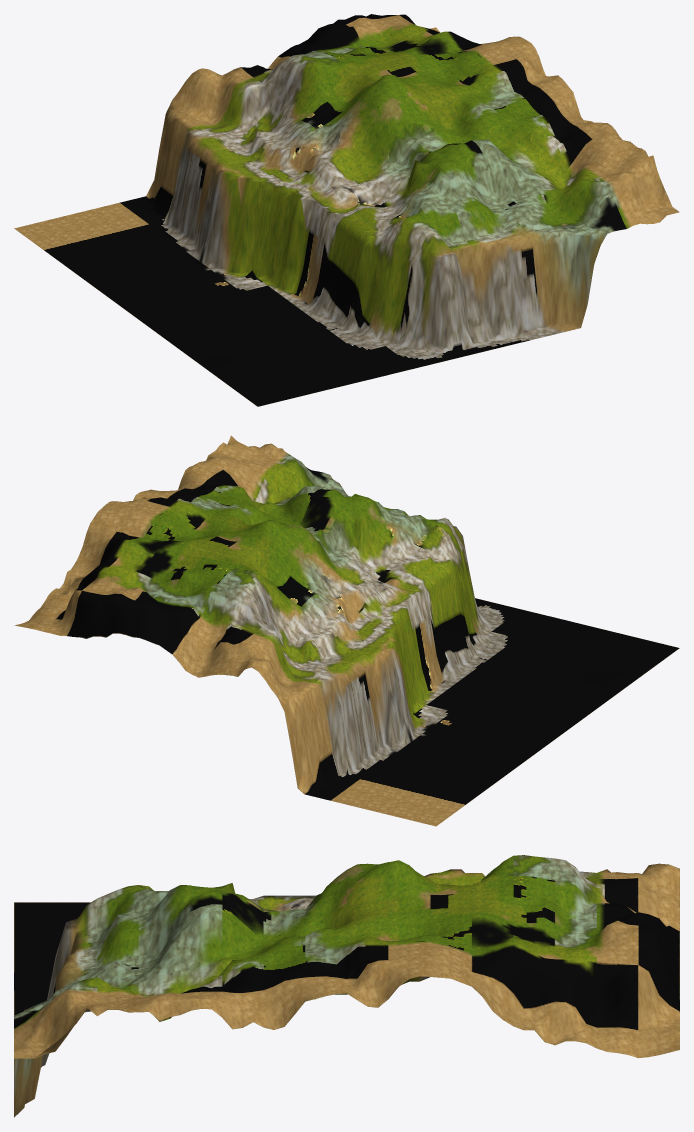
File: terrain.glb
The picture shows the model from 3 angles, top to bottom: view 1: azimuth 30°, elevation 25°; view 2: azimuth 150°, elevation 25°; view 3: azimuth 270°, elevation 25°; orthographic projection. The views are drawn at different scales.
Parts seen in each view (by area): view 1: terrain_1_2; view 2: terrain_1_2; view 3: terrain_1_2.
Boxes of the visible parts, left/top/right/bottom form: terrain_1_2: left=14, top=14, right=679, bottom=406; terrain_1_2: left=14, top=435, right=679, bottom=826; terrain_1_2: left=14, top=855, right=679, bottom=1117.
Size of the model in its own units: 512 by 189 by 512.
1 material, 1 textured.
